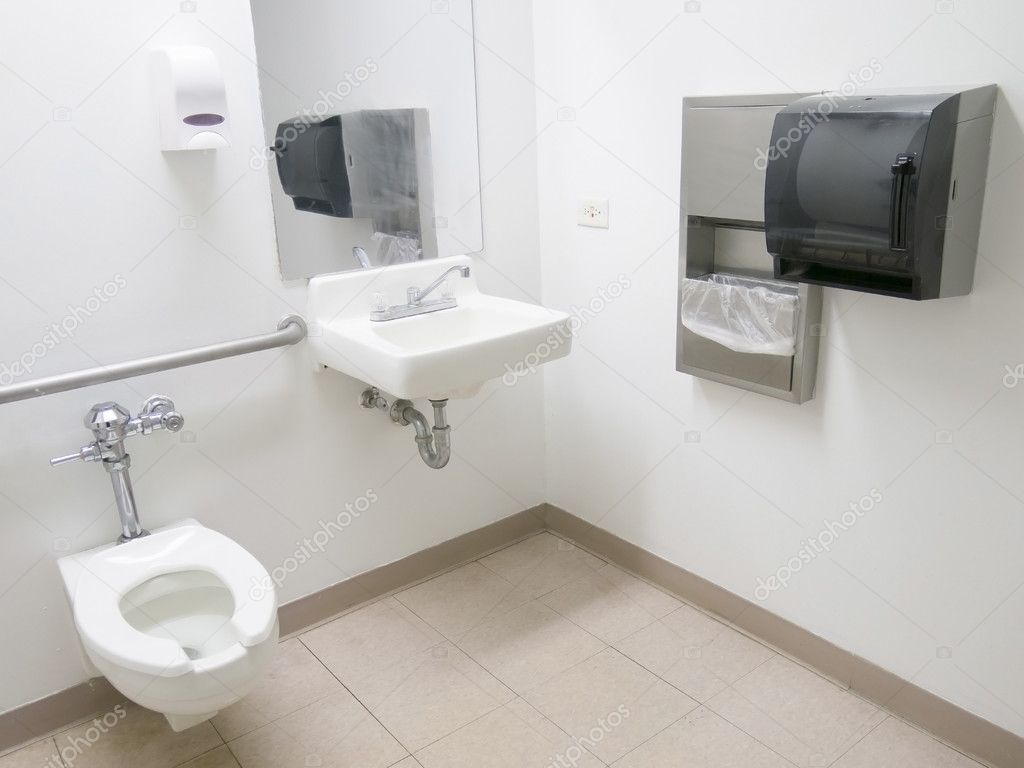dispenser: (758, 74, 1004, 305), (274, 104, 402, 225), (153, 45, 235, 164)
faucet: (342, 252, 486, 320)
restroom_assist_bar: (1, 312, 318, 405)
sink: (314, 291, 573, 374)
toilet: (54, 514, 283, 736)
toilet_handle: (44, 443, 99, 468)
waste_bin: (678, 266, 829, 403)
